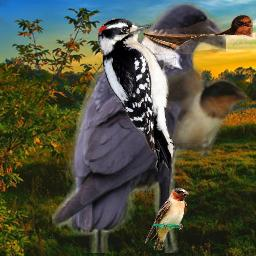Crow: (52, 2, 226, 253)
Swallow: (134, 67, 247, 158), (143, 14, 253, 54), (145, 188, 189, 250)
Woodpecker: (98, 18, 176, 172)
